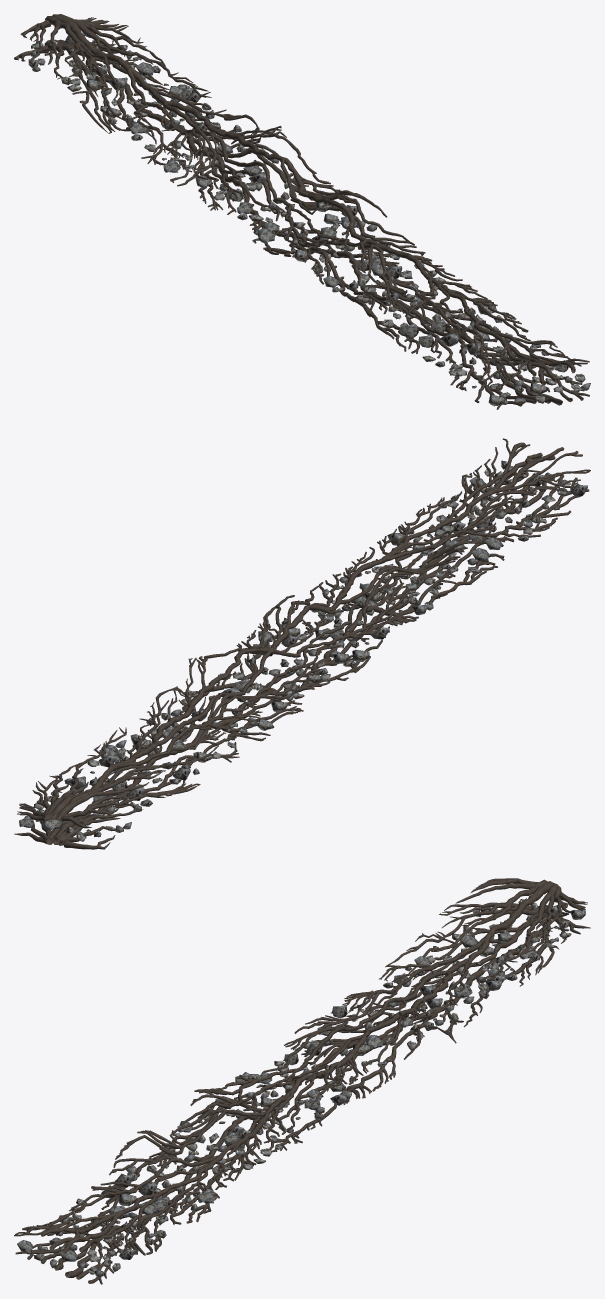
The model's file is Border_Start.fbx.
3 renders of one model, top to bottom at view 1: azimuth 30°, elevation 25°; view 2: azimuth 150°, elevation 25°; view 3: azimuth 330°, elevation 25°, orthographic.
Visible parts, largest first — view 1: Border_Start; view 2: Border_Start; view 3: Border_Start.
Part boxes in pixels (x1,y1,x2,y2): Border_Start: (14,14,590,409); Border_Start: (14,438,590,849); Border_Start: (14,878,590,1284).
Size of the model in its own units: 1.21 by 0.5472 by 9.24.
